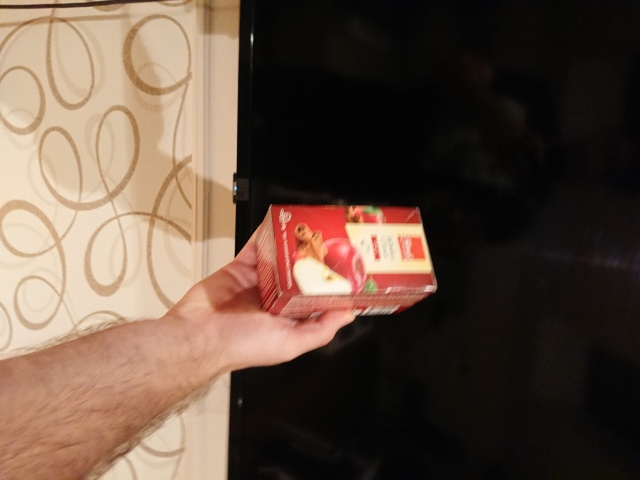Franck Apple Cinnamon Tea 60g: (251, 201, 440, 322)
